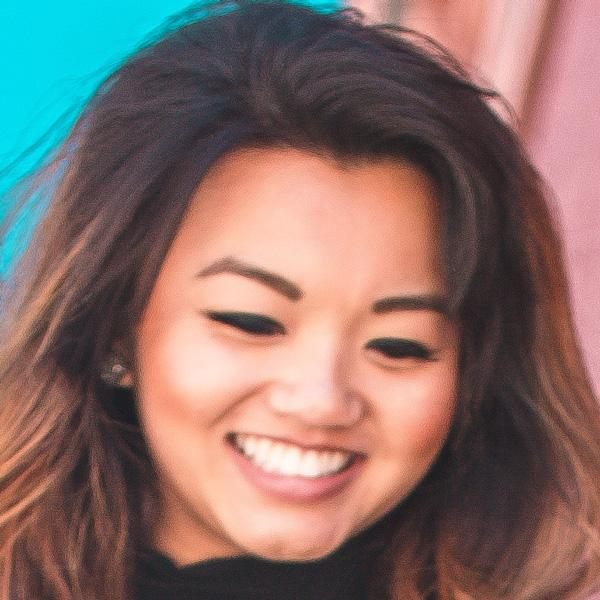Eyes: (189, 292, 292, 346), (356, 318, 442, 373)
